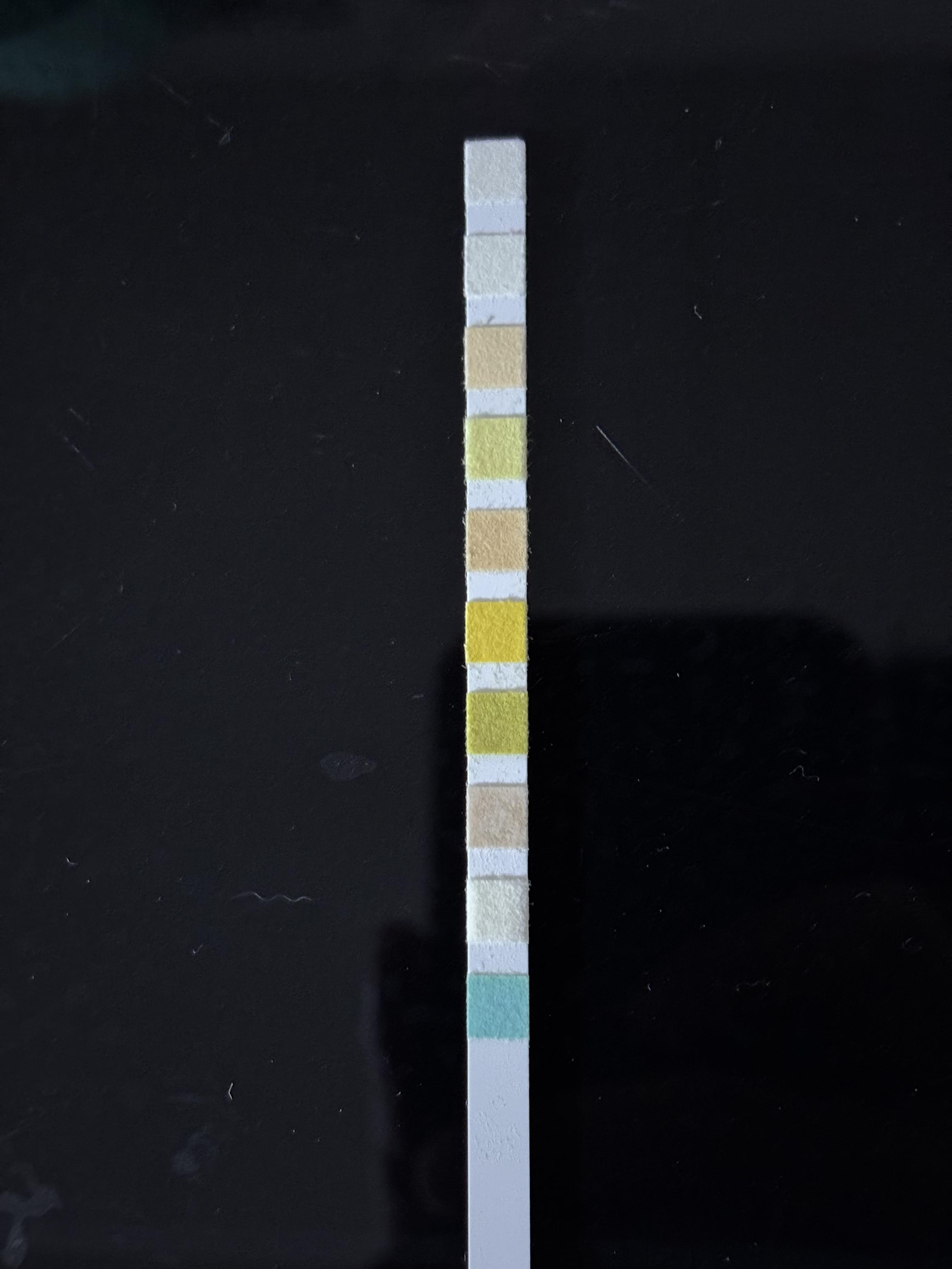Bilirubin: (469, 880, 526, 937)
Blood: (468, 603, 525, 661)
Glucose: (470, 977, 528, 1036)
Ketone: (470, 786, 526, 843)
Leukocytes: (468, 144, 524, 199)
Nitrite: (466, 238, 524, 294)
Protein: (468, 419, 524, 478)
SpGravity: (468, 693, 526, 752)
Urobilinogen: (466, 327, 524, 388)
pH: (470, 513, 526, 571)
strip: (468, 140, 530, 1189)
